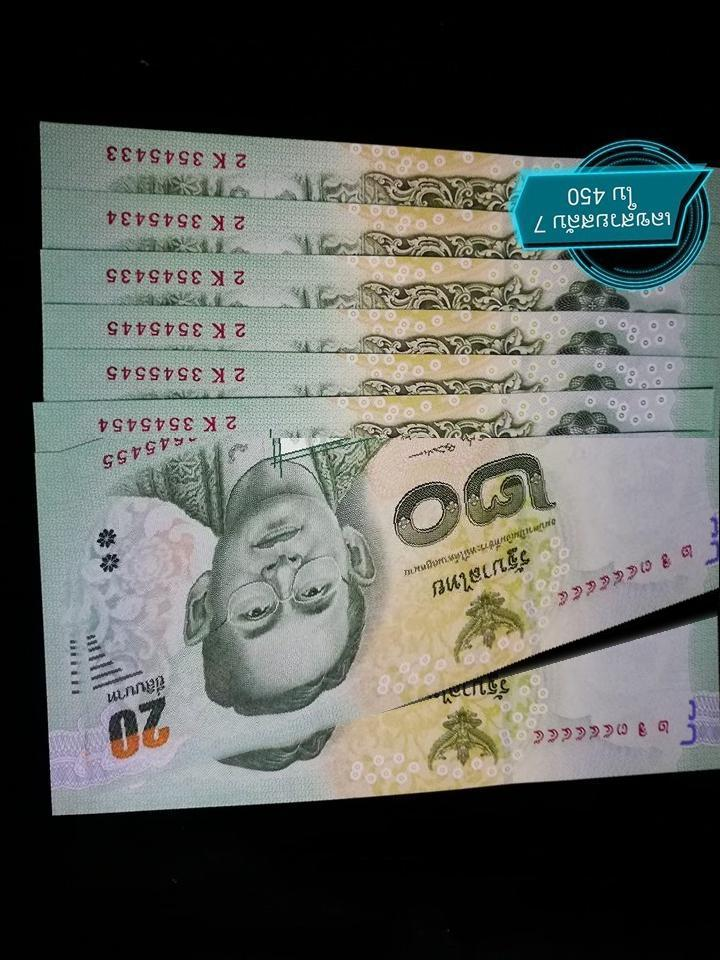20BahtTai: (58, 438, 719, 798)
